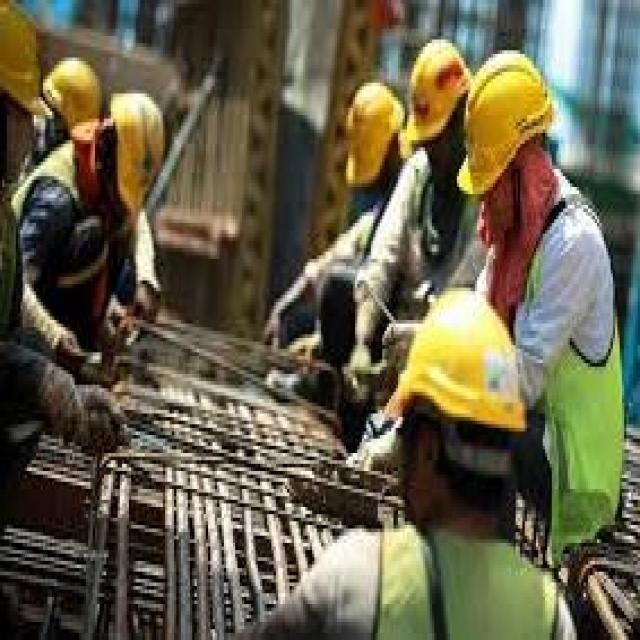Reflective-Jacket: (0, 137, 138, 388), (344, 504, 563, 636)
Safety-Helmet: (382, 280, 534, 446), (456, 50, 558, 202), (98, 79, 176, 227), (333, 72, 407, 194), (400, 32, 473, 151), (39, 51, 113, 148), (0, 0, 52, 129)
